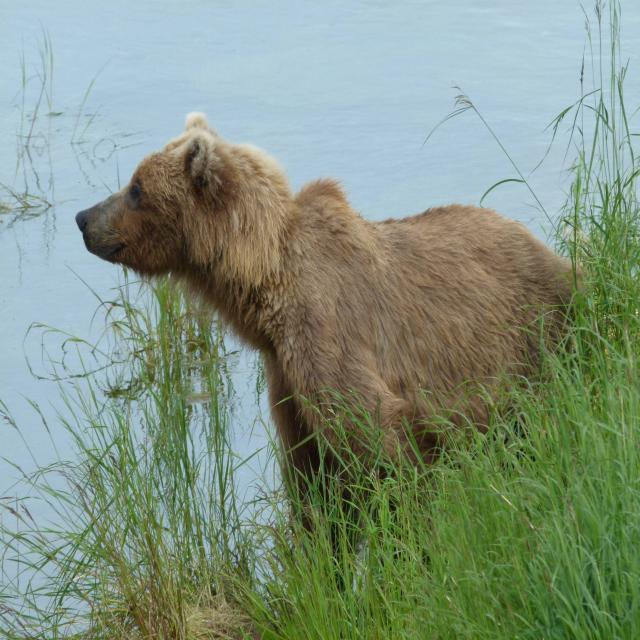bear face: (76, 110, 577, 477)
